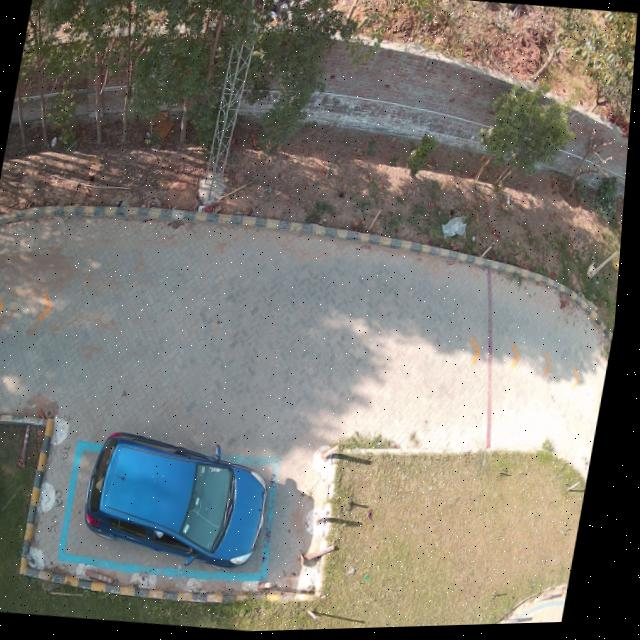car: (92, 433, 275, 570)
